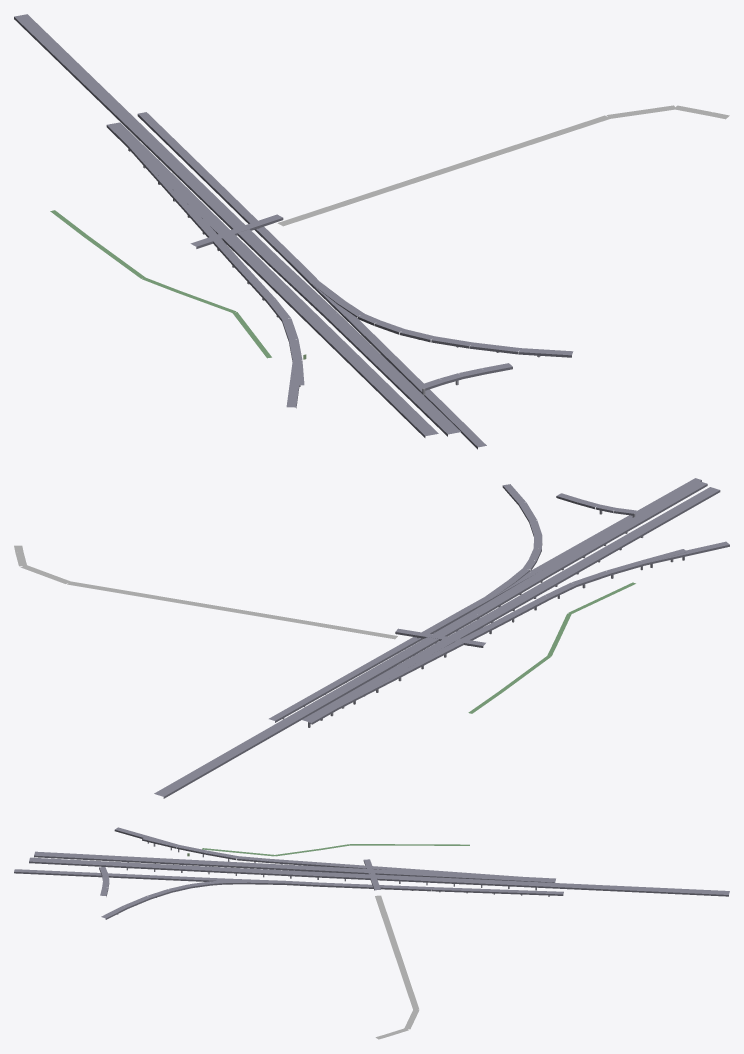
3 renders of one model, top to bottom at view 1: azimuth 30°, elevation 25°; view 2: azimuth 150°, elevation 25°; view 3: azimuth 270°, elevation 25°, orthographic. The views are drawn at different scales.
Size of the model in its own units: 530 by 9.32 by 784.
